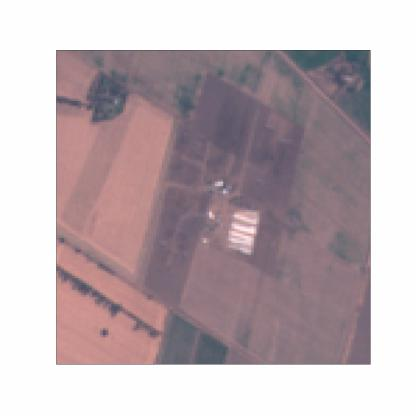silobolsa: (227, 242, 253, 256), (231, 211, 260, 223), (227, 236, 258, 245), (225, 230, 255, 238), (227, 223, 256, 231)
